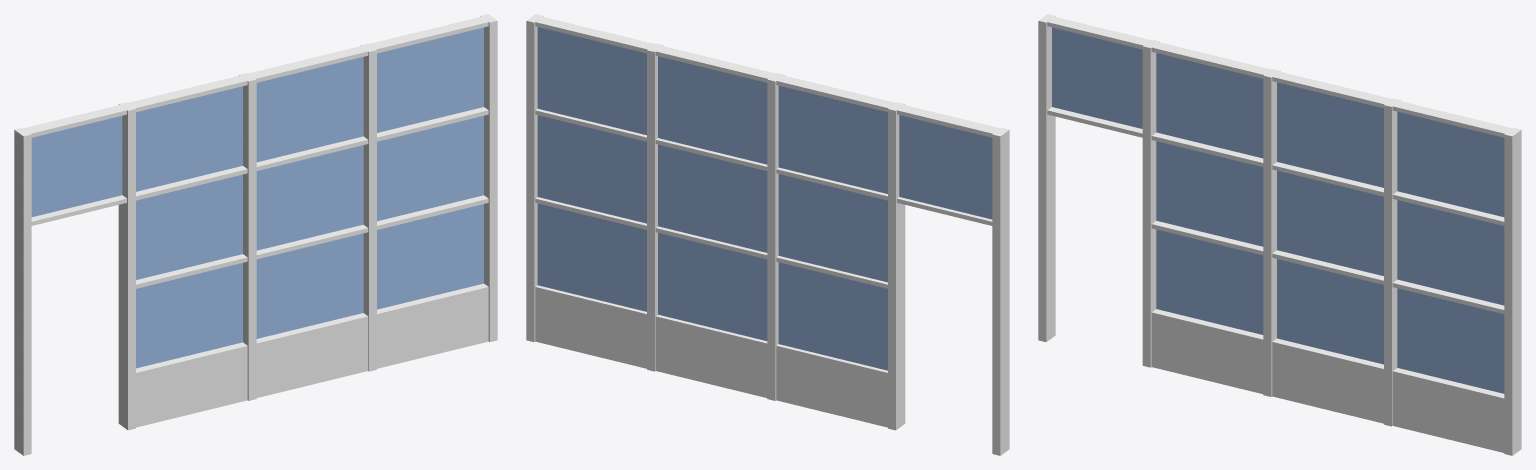
File: window_front_entrance.glb
The picture shows the model from 3 angles, left to right: view 1: azimuth 30°, elevation 25°; view 2: azimuth 150°, elevation 25°; view 3: azimuth 330°, elevation 25°; orthographic projection.
Visible parts, largest first — view 1: frame, glass.001, glass, glass.002, glass.003; view 2: frame, glass.001, glass, glass.002, glass.003; view 3: frame, glass, glass.002, glass.001, glass.003.
Part boxes in pixels (x1,y1,x2,y2): frame: (14, 14, 497, 455); glass.001: (256, 57, 363, 338); glass: (377, 27, 483, 309); glass.002: (136, 86, 242, 368); glass.003: (31, 116, 122, 216); frame: (526, 14, 1009, 455); glass.001: (658, 56, 767, 340); glass: (537, 27, 646, 311); glass.002: (778, 86, 887, 370); glass.003: (899, 115, 992, 219); frame: (1038, 14, 1521, 455); glass: (1397, 111, 1504, 393); glass.002: (1156, 53, 1263, 334); glass.001: (1277, 82, 1383, 364); glass.003: (1052, 27, 1142, 128).
Bounding box in the file's own units: 5.9 × 3.8 × 0.2.
